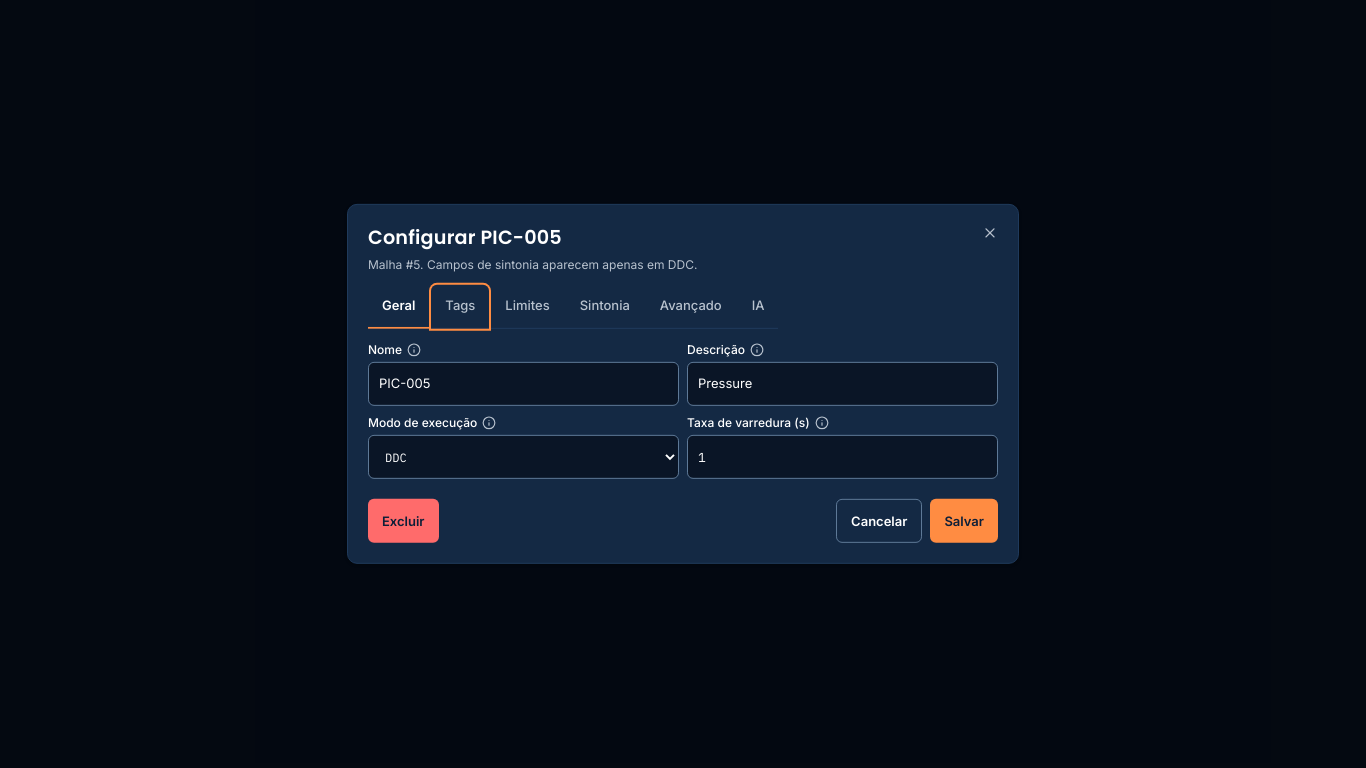
Test: LoopConfigDialog — OPC-UA tag picker › binds the chosen node to NodeID CO and leaves the rest alone
Press Enter in the tab "Tags", box x1=431 y1=285 x2=489 y2=329
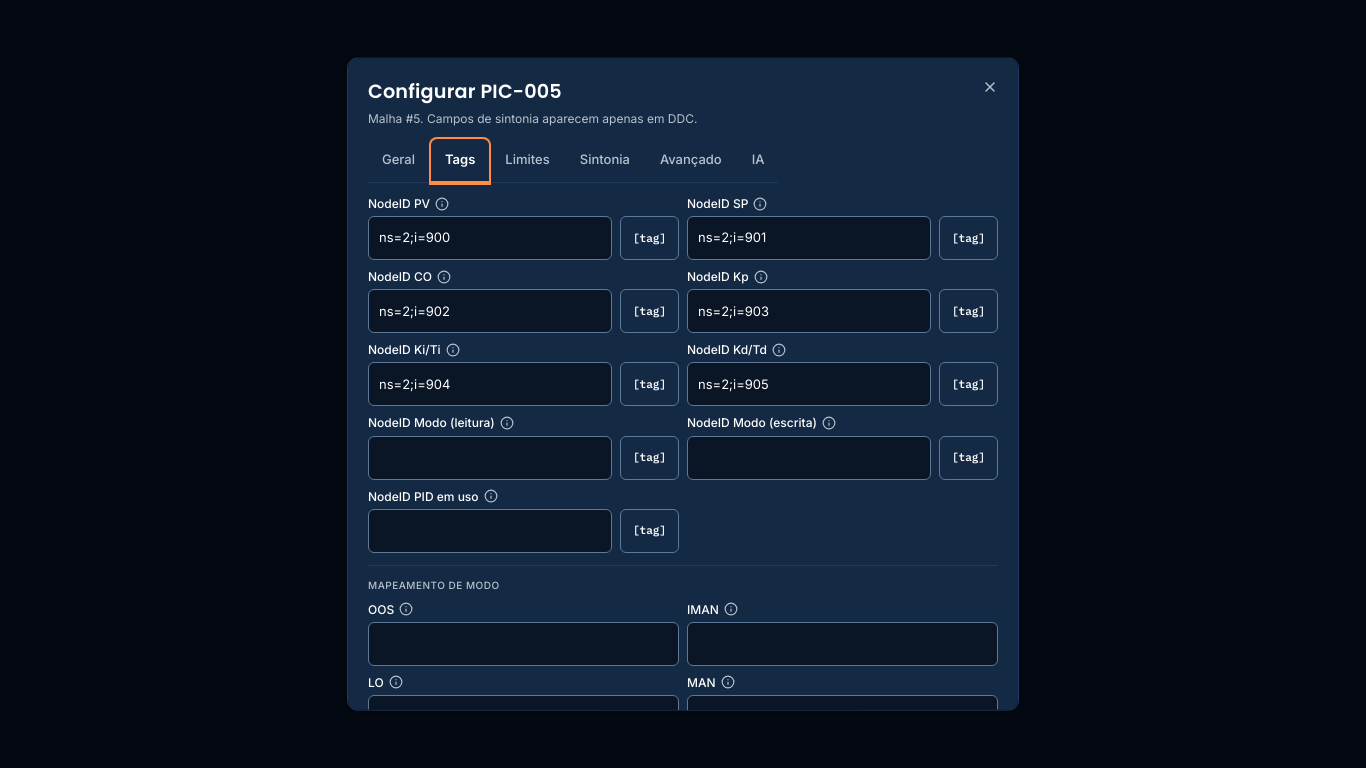
Click the button "[tag]" below "NodeID CO": coordinates (650, 311) x1=620 y1=289 x2=679 y2=333
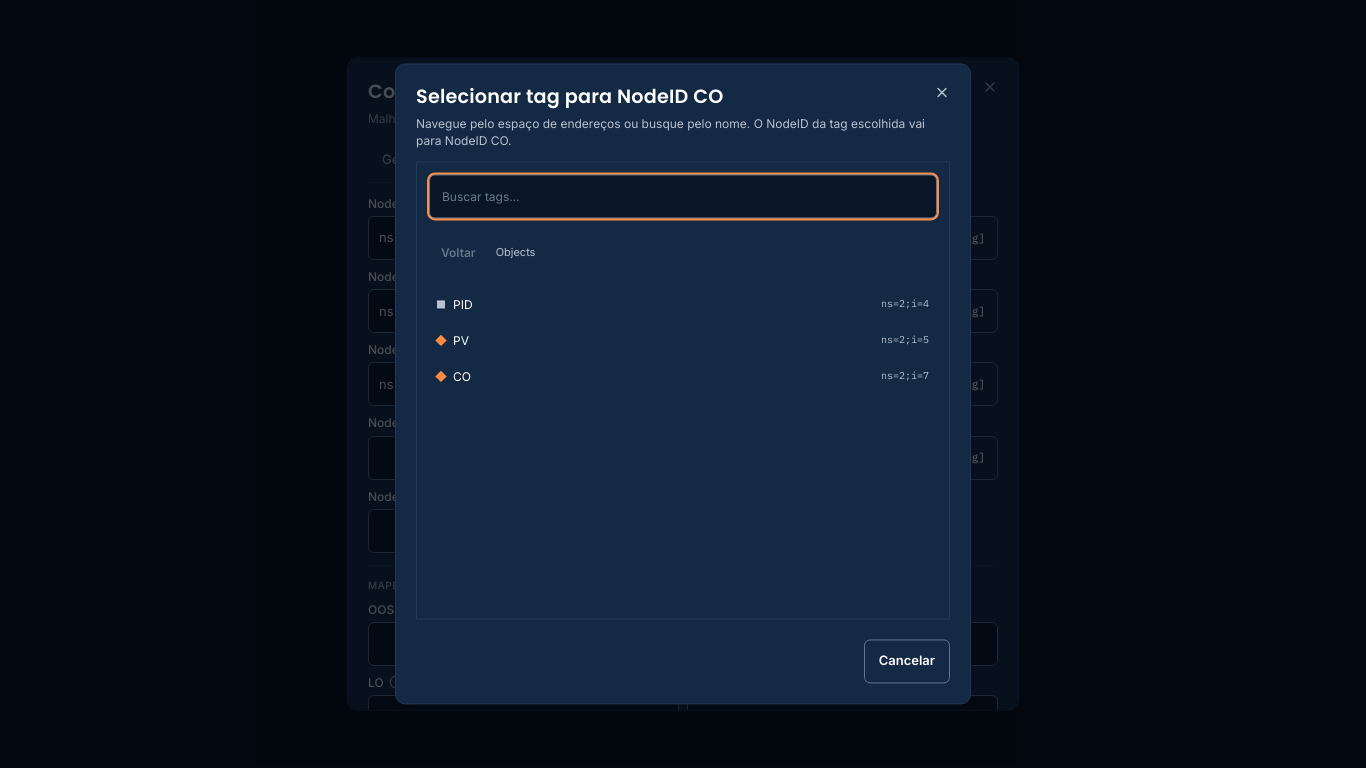
Click the button "CO ns=2;i=7": coordinates (905, 376) x1=429 y1=359 x2=937 y2=395
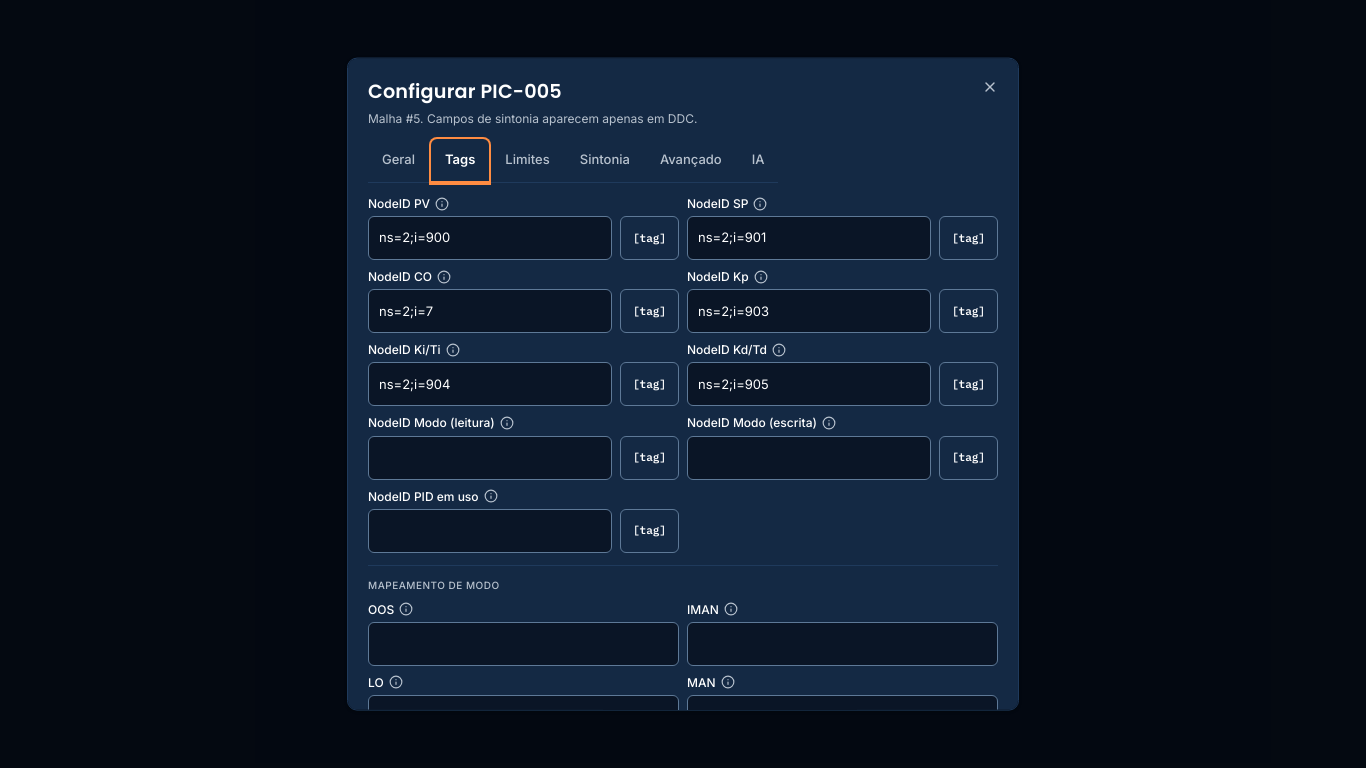
Now the field labelled "NodeID CO" holds "ns=2;i=7", box x1=368 y1=289 x2=612 y2=333
